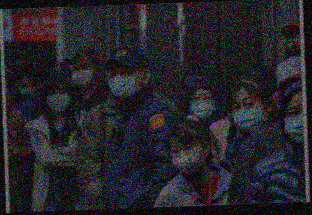with_mask: (230, 94, 266, 134), (108, 65, 143, 102), (169, 142, 204, 177), (282, 101, 303, 148), (187, 90, 216, 123), (70, 60, 96, 89), (44, 87, 71, 114), (280, 34, 300, 61), (16, 80, 36, 101)
